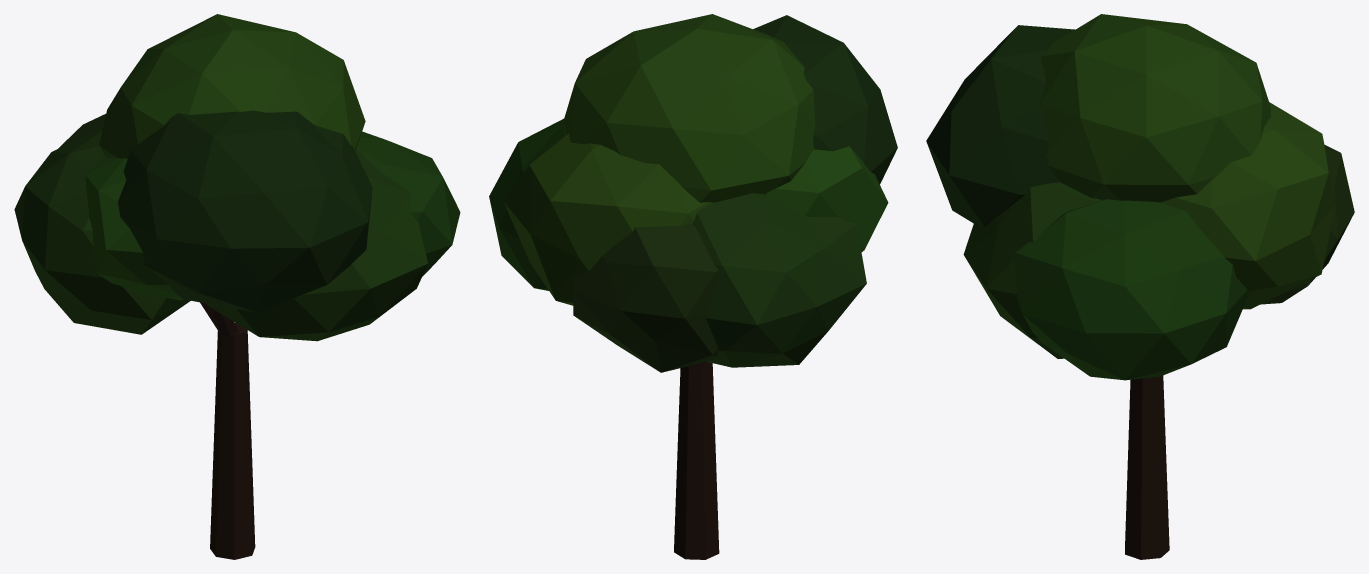
The model's file is tree_broadleaf_round.fbx.
3 views of the same model, side by side, from view 1: azimuth 30°, elevation 25°; view 2: azimuth 150°, elevation 25°; view 3: azimuth 270°, elevation 25° (orthographic).
Parts seen in each view (by area): view 1: tree_broadleaf_round; view 2: tree_broadleaf_round; view 3: tree_broadleaf_round.
Part boxes in pixels (<box>): tree_broadleaf_round: <box>14,14,460,559</box>; tree_broadleaf_round: <box>489,14,897,559</box>; tree_broadleaf_round: <box>926,14,1354,559</box>.
Size of the model in its own units: 4.86 by 6.41 by 4.74.
